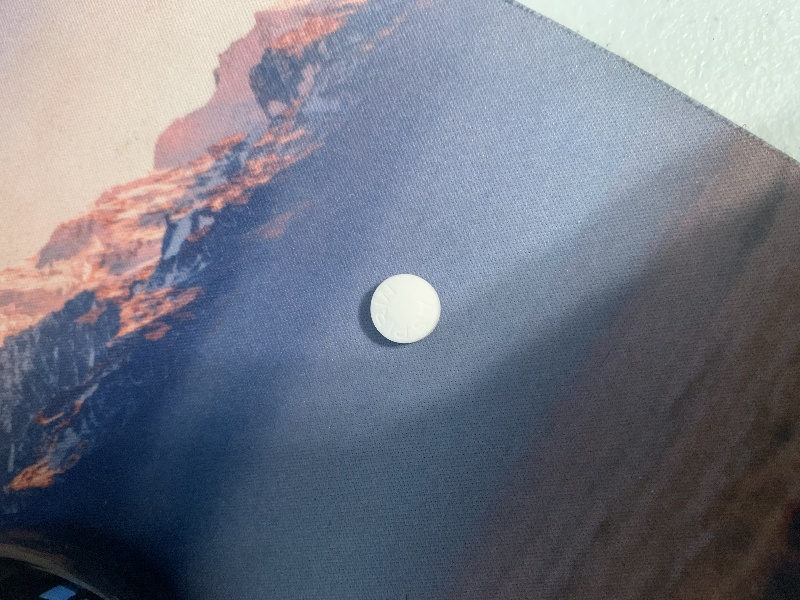Aspirin: (367, 270, 444, 348)
